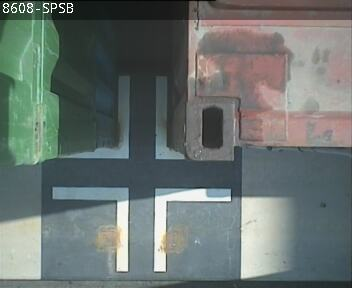groundmarker_1: (52, 184, 232, 271), (53, 71, 176, 159)
